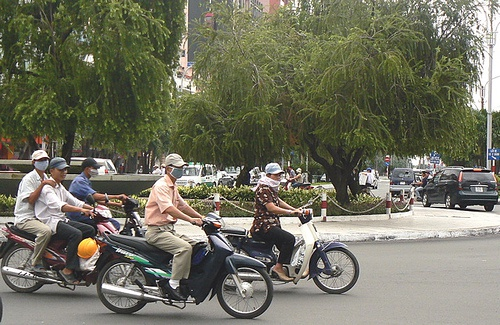non-vehicle: (95, 210, 277, 319), (225, 208, 360, 293), (0, 224, 69, 293), (84, 192, 120, 252), (112, 197, 143, 235), (84, 249, 113, 285)
